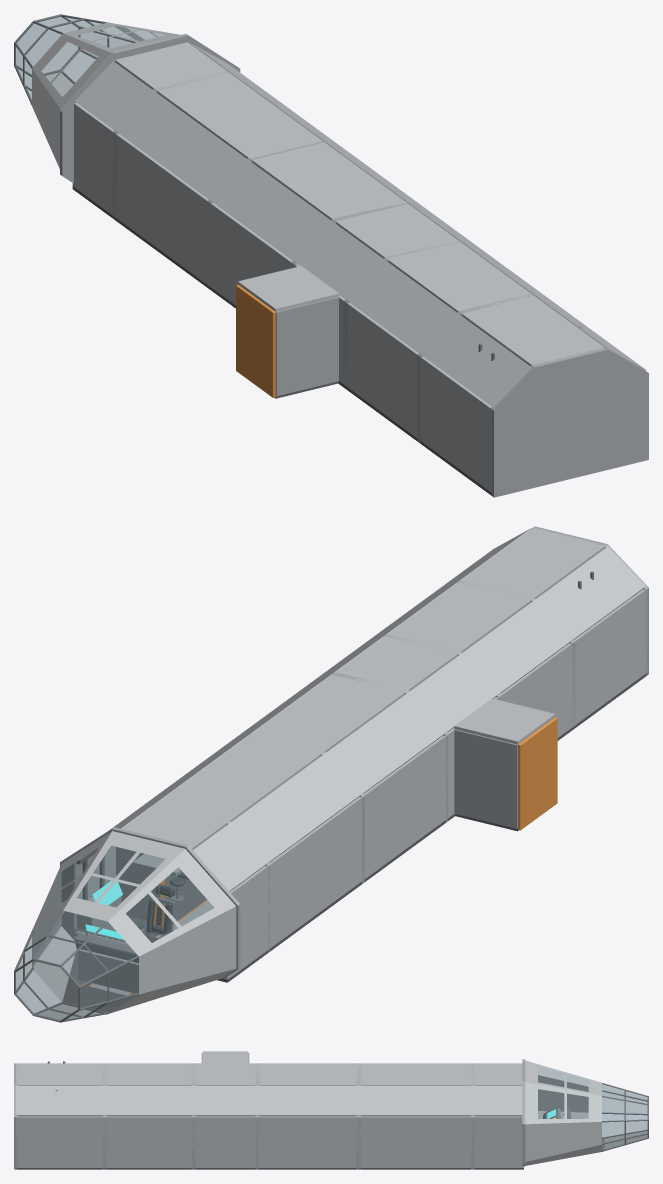
Rendered from interior.glb.
3 renders of one model, top to bottom at view 1: azimuth 30°, elevation 25°; view 2: azimuth 150°, elevation 25°; view 3: azimuth 270°, elevation 25°, orthographic. The views are drawn at different scales.
Visible parts, largest first — view 1: AftWall, Hab_WallL, Engineering_WallL, Cargo_WallL, Lab_WallL, Hab_Ceiling, Bridge_WallL, Lab_Ceiling, Airlock_Side-3.65, Cargo_Ceiling, Engineering_Ceiling, SuitRoom_WallL (+12 smaller); view 2: Bridge_Cockpit, Hab_WallL, Lab_WallL, Engineering_WallL, Bridge_Nose, Cargo_WallL, Hab_Ceiling, Bridge_Canopy, Lab_Ceiling, Cargo_Ceiling, Engineering_Ceiling, Airlock_Side-1.85 (+15 smaller); view 3: Hab_WallR, Lab_WallR, Engineering_WallR, Cargo_WallR, Bridge_Cockpit, SuitRoom_WallR, Bridge_WallR, Hab_Ceiling, Bridge_Nose, Lab_Ceiling, Engineering_Ceiling, Cargo_Ceiling (+14 smaller).
Boxes of the visible parts, x1,y1,x2,y2 form: AftWall: (490, 347, 648, 497); Hab_WallL: (114, 91, 247, 285); Engineering_WallL: (419, 313, 531, 492); Cargo_WallL: (345, 260, 457, 438); Lab_WallL: (209, 160, 331, 305); Hab_Ceiling: (157, 72, 322, 158); Bridge_WallL: (72, 61, 153, 216); Lab_Ceiling: (252, 141, 406, 219); Airlock_Side-3.65: (275, 296, 339, 396); Cargo_Ceiling: (387, 241, 532, 312); Engineering_Ceiling: (461, 295, 603, 365); SuitRoom_WallL: (293, 221, 384, 385); Bridge_Cockpit: (32, 831, 236, 1013); Hab_WallL: (230, 754, 363, 948); Lab_WallL: (325, 692, 447, 879); Engineering_WallL: (535, 546, 647, 725); Bridge_Nose: (16, 911, 138, 1020); Cargo_WallL: (461, 600, 573, 737); Hab_Ceiling: (156, 735, 322, 821); Bridge_Canopy: (42, 846, 213, 942); Lab_Ceiling: (250, 674, 406, 752); Cargo_Ceiling: (387, 581, 532, 652); Engineering_Ceiling: (461, 527, 605, 598); Airlock_Side-1.85: (454, 729, 517, 828); Hab_WallR: (358, 1085, 472, 1167); Lab_WallR: (257, 1085, 358, 1167); Engineering_WallR: (16, 1085, 104, 1167); Cargo_WallR: (105, 1085, 193, 1167); Bridge_Cockpit: (525, 1060, 601, 1165); SuitRoom_WallR: (193, 1085, 257, 1167); Bridge_WallR: (473, 1085, 523, 1167); Hab_Ceiling: (358, 1063, 472, 1085); Bridge_Nose: (602, 1083, 647, 1151); Lab_Ceiling: (257, 1063, 358, 1085); Engineering_Ceiling: (16, 1063, 104, 1085); Cargo_Ceiling: (105, 1063, 193, 1085).
Size of the model in its own units: 6.37 by 3.34 by 25.01.
